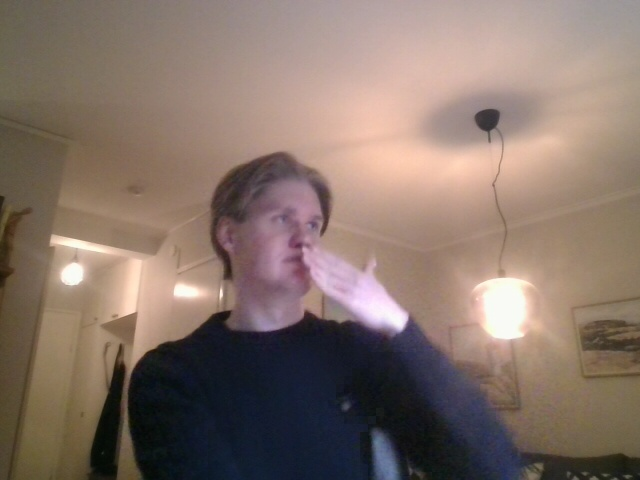ThankYou: (280, 245, 391, 331)
